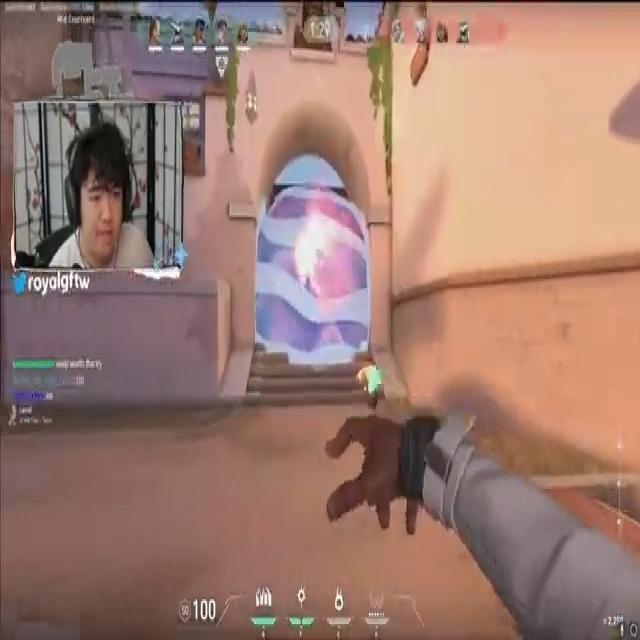smoke: (258, 185, 370, 368)
